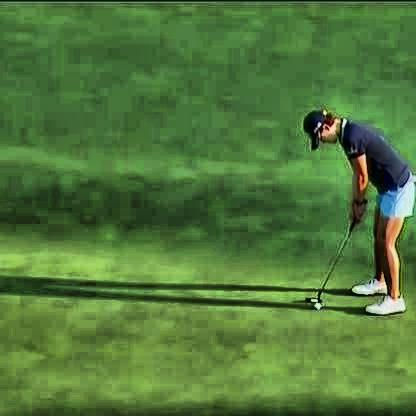golfball: (309, 302, 319, 309)
